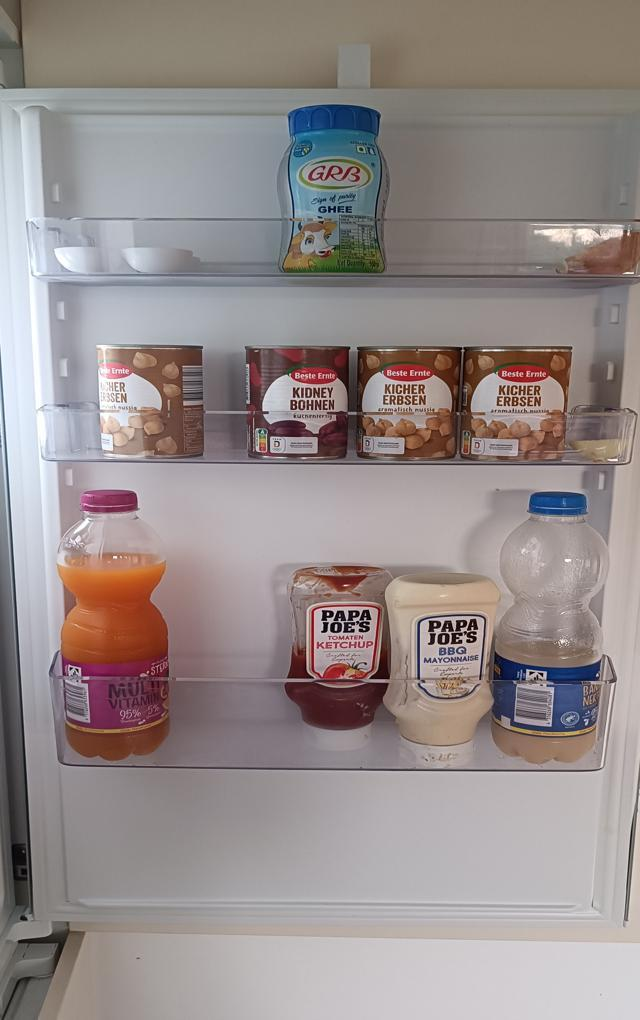bananajuice: (495, 489, 608, 764)
chickpeas: (462, 347, 570, 467), (96, 343, 204, 458), (358, 347, 461, 461)
ghee: (278, 105, 389, 276)
kidneybeans: (243, 344, 348, 462)
mayoniasie: (385, 576, 498, 767)
orangejuice: (54, 487, 172, 758)
tomatoketchup: (286, 563, 393, 751)
